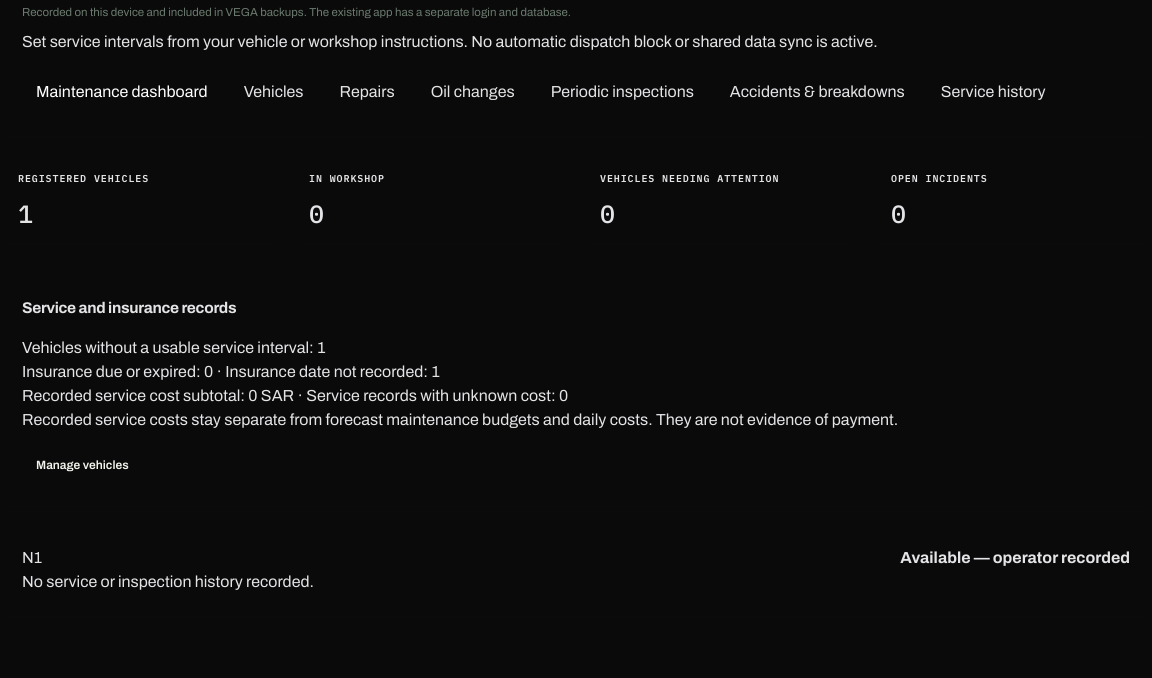
maintenance operator workflow › does not erase a known odometer on a blank edit
The image size is (1152, 678).
Click the button "Vehicles" at (274, 92), box [230,70,318,114]
(page scrolled)
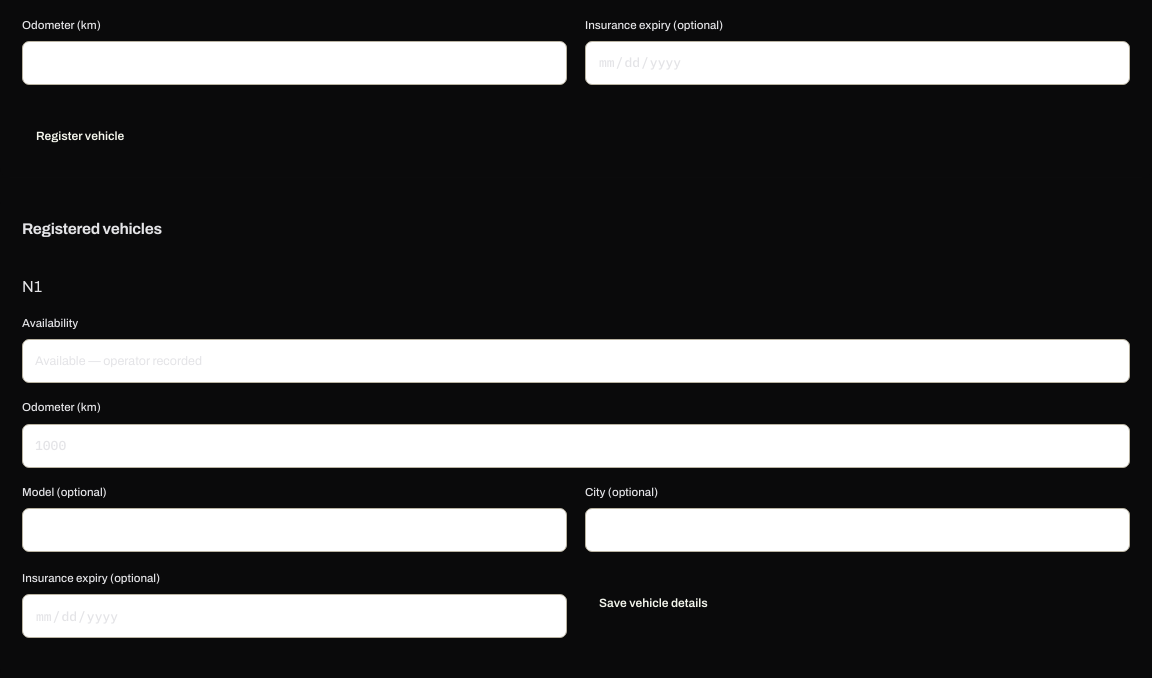
Clear the number field labelled "Odometer (km)" below "Availability" at (576, 446), box [22,424,1130,468]
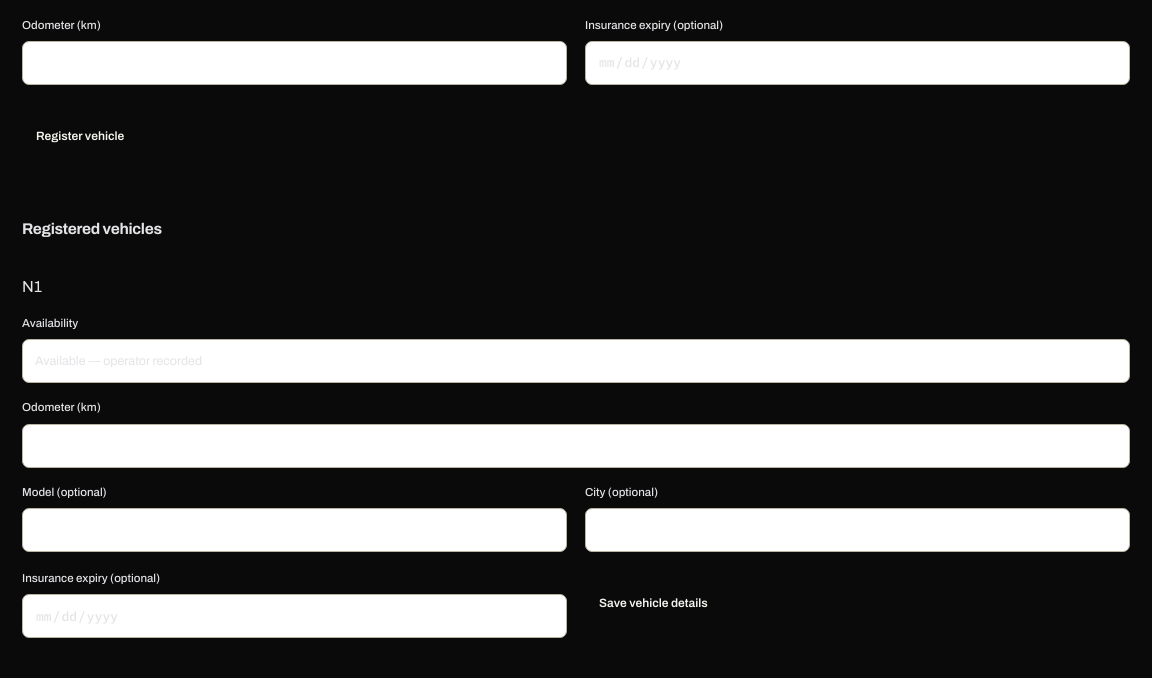
Leave the number field labelled "Odometer (km)" below "Availability", box [22,424,1130,468]
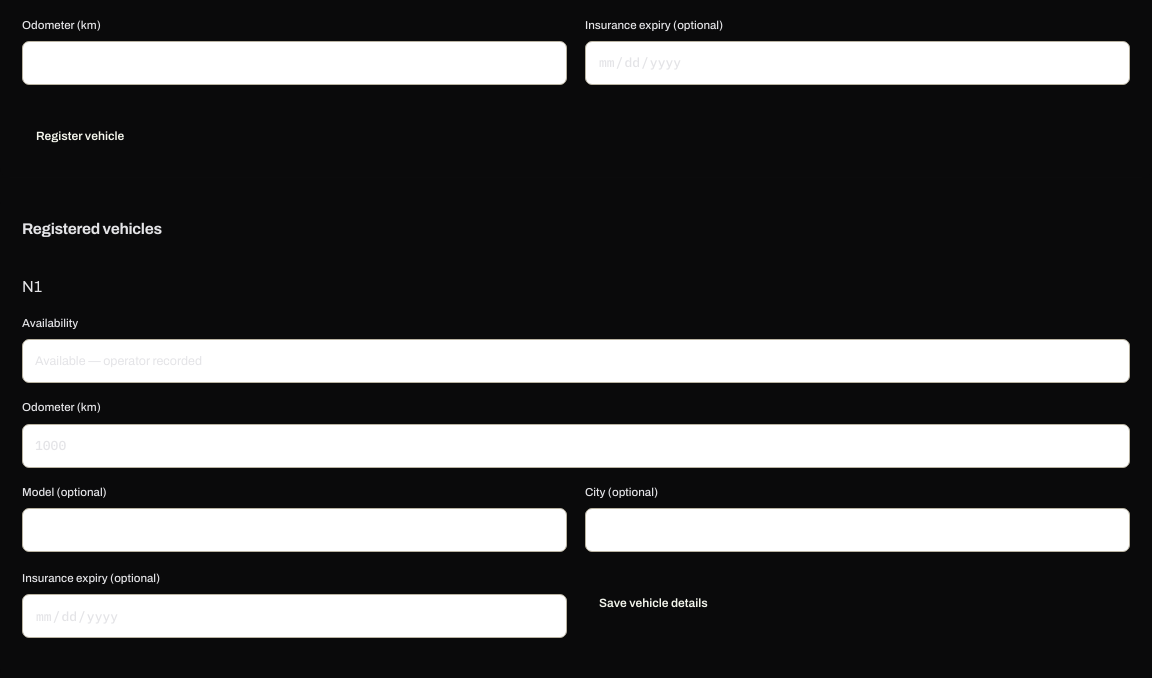
Expected: the number field labelled "Odometer (km)" below "Availability" holds "1000", [22,424,1130,468]
